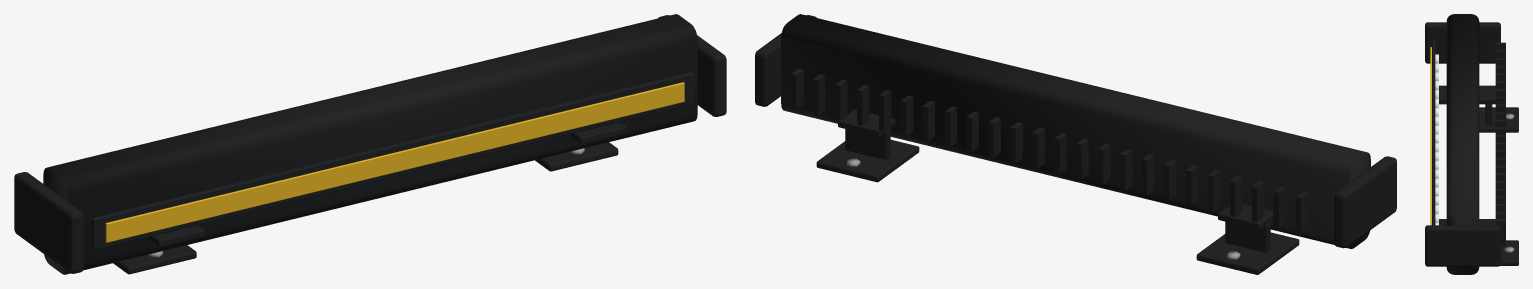
The model's file is lightBar_stedi_st1k_rack.glb.
The picture shows the model from 3 angles, left to right: view 1: azimuth 30°, elevation 25°; view 2: azimuth 150°, elevation 25°; view 3: azimuth 270°, elevation 25°; orthographic projection. The views are drawn at different scales.
Visible parts, largest first — view 1: housing.007, lens.007, bezel.007, endCap-1.008, endCap1.008, rFoot1.003, rFoot-1.003, rCradle1.003, rCradle-1.003; view 2: housing.007, endCap-1.008, rFoot1.003, rFoot-1.003, endCap1.008, rPost-1.003, rPost1.003, rCradle-1.003, rCradle1.003, fin1.007, fin18.007, fin22.007 (+21 smaller); view 3: housing.007, endCap1.008, endCap-1.008, bezel.007, rFoot-1.003, rCradle-1.003, rFoot1.003, lens.007, fin23.007, rCradle1.003, rPost-1.003, fin6.007 (+22 smaller).
Boxes of the visible parts, box(x1,y1,x2,y2) form: housing.007: box(43, 14, 697, 274); lens.007: box(105, 82, 684, 242); bezel.007: box(91, 71, 694, 250); endCap-1.008: box(14, 172, 83, 273); endCap1.008: box(658, 15, 726, 116); rFoot1.003: box(535, 142, 618, 171); rFoot-1.003: box(113, 245, 196, 274); rCradle1.003: box(571, 122, 626, 144); rCradle-1.003: box(149, 225, 204, 247); housing.007: box(781, 14, 1370, 248); endCap-1.008: box(1334, 156, 1396, 248); rFoot1.003: box(816, 139, 919, 182); rFoot-1.003: box(1196, 232, 1299, 274); endCap1.008: box(755, 15, 816, 106); rPost-1.003: box(1225, 221, 1270, 252); rPost1.003: box(845, 129, 890, 159); rCradle-1.003: box(1218, 204, 1273, 229); rCradle1.003: box(838, 109, 895, 136); fin1.007: box(1273, 186, 1286, 227); fin18.007: box(900, 95, 913, 136); fin22.007: box(813, 74, 825, 115); housing.007: box(1446, 14, 1479, 274); endCap1.008: box(1425, 225, 1500, 266); endCap-1.008: box(1425, 22, 1500, 63); bezel.007: box(1432, 39, 1435, 225); rFoot-1.003: box(1479, 107, 1518, 132); rCradle-1.003: box(1439, 85, 1495, 104); rFoot1.003: box(1500, 240, 1518, 265); lens.007: box(1430, 47, 1431, 225); fin23.007: box(1495, 219, 1505, 246); rCradle1.003: box(1439, 219, 1495, 225); rPost-1.003: box(1485, 104, 1492, 124); fin6.007: box(1495, 88, 1505, 96).
Size of the model in its own units: 0.57 by 0.097 by 0.109.
